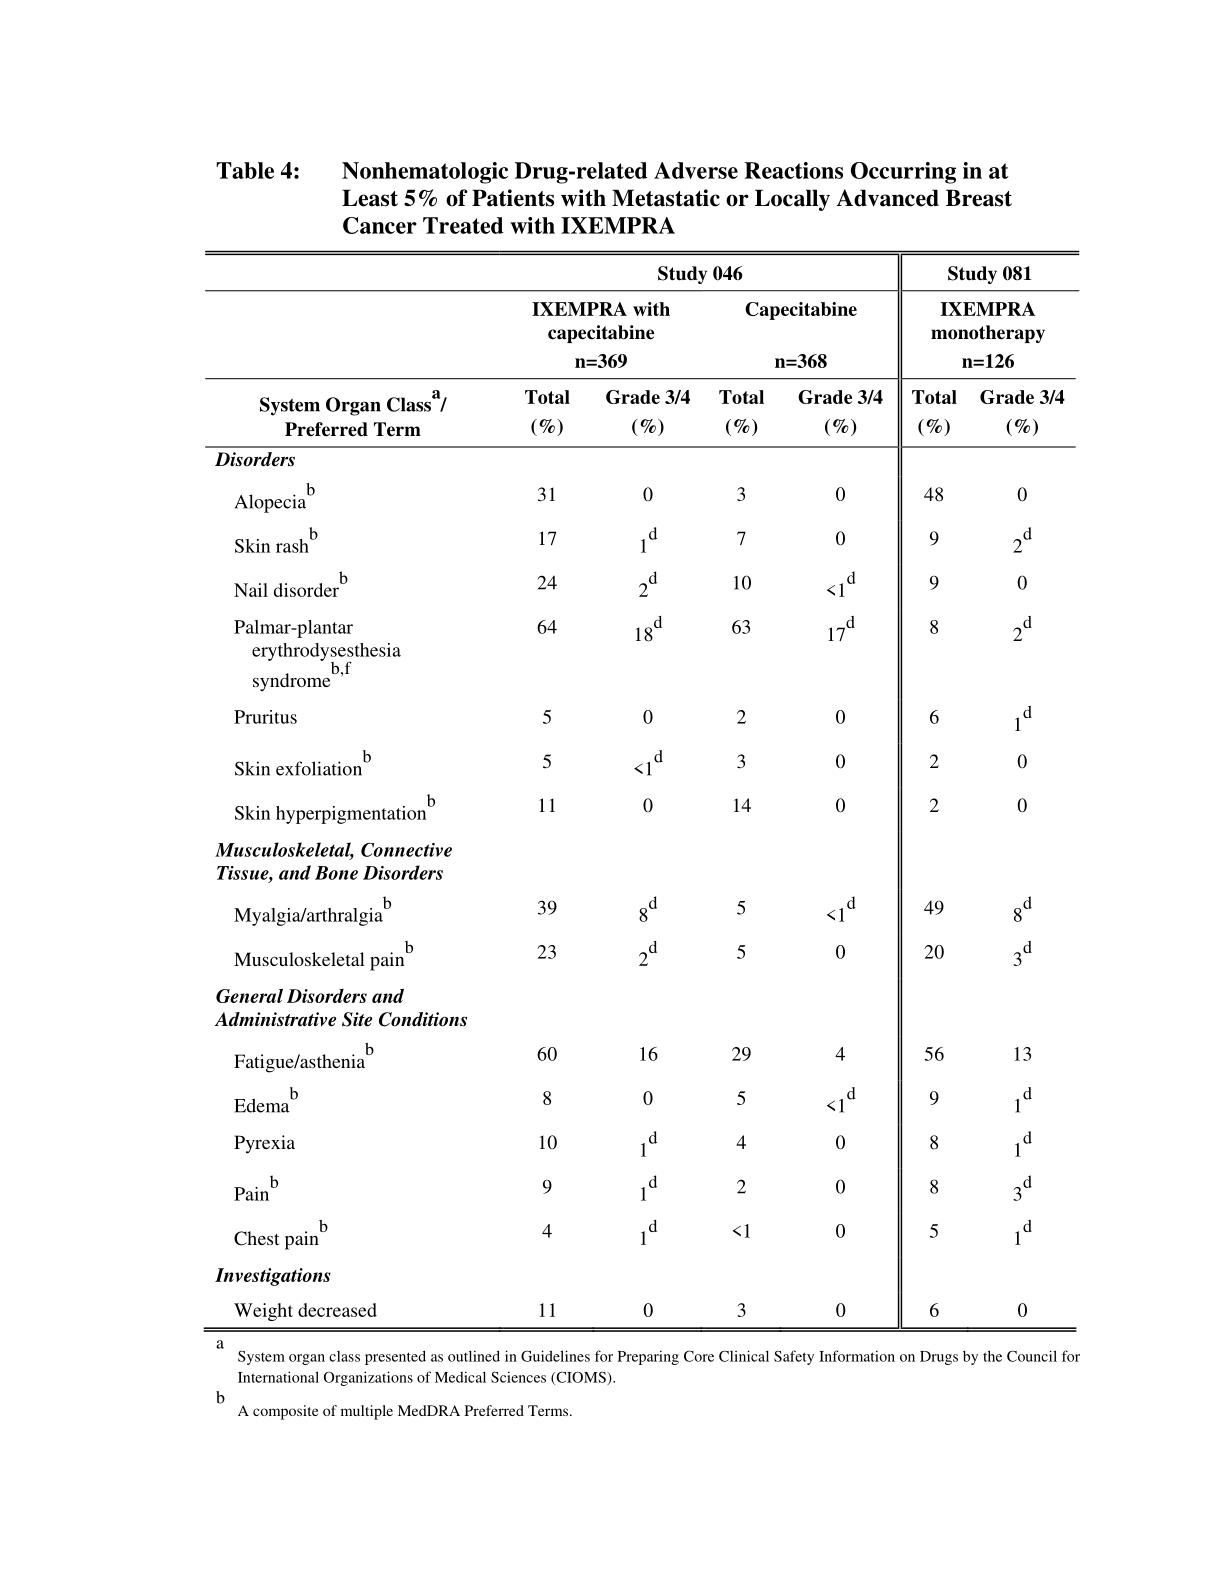partial_lined_merged_cells: (202, 249, 1077, 1335)
